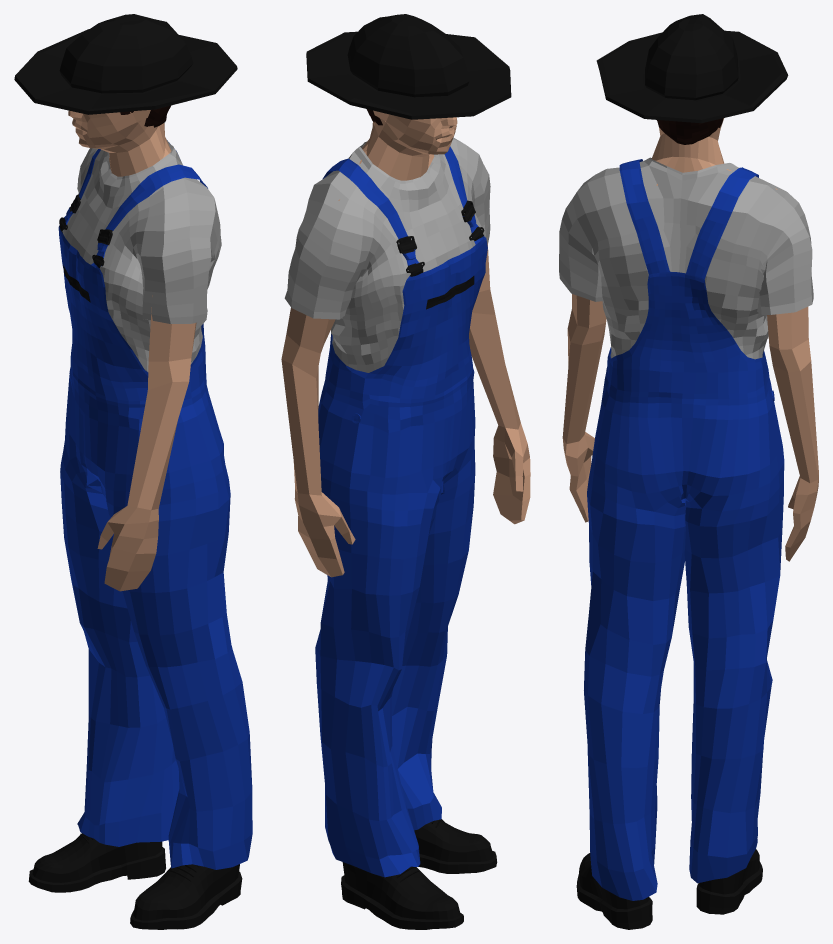
File: Zone4_NPC_3rdParty.fbx
3 views of the same model, side by side, from view 1: azimuth 30°, elevation 25°; view 2: azimuth 150°, elevation 25°; view 3: azimuth 270°, elevation 25° (orthographic).
Parts seen in each view (by area): view 1: Worker_NPC; view 2: Worker_NPC; view 3: Worker_NPC.
Boxes of the visible parts, bbox=[...] form: Worker_NPC: bbox=[14, 14, 252, 929]; Worker_NPC: bbox=[281, 14, 530, 929]; Worker_NPC: bbox=[559, 14, 818, 929].
Size of the model in its own units: 42.9 by 184 by 49.9.
